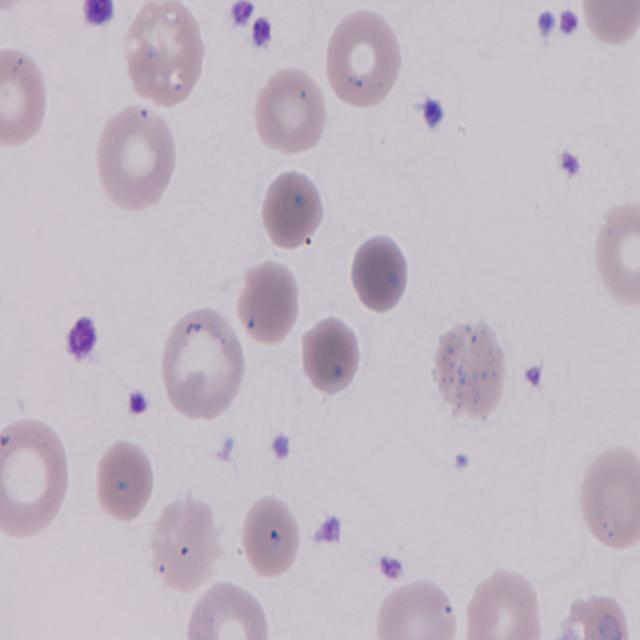Platelets: (420, 92, 448, 134)
RBC: (157, 304, 245, 419), (92, 100, 180, 213), (0, 417, 76, 542), (121, 0, 206, 111), (322, 8, 404, 110), (252, 64, 330, 158), (576, 442, 640, 556), (233, 255, 304, 348), (460, 568, 549, 639), (369, 577, 462, 640), (183, 581, 280, 640), (592, 200, 640, 314), (0, 46, 49, 154), (576, 0, 639, 49)
Spherocyte: (258, 160, 330, 253), (89, 434, 157, 528), (242, 495, 306, 580), (301, 312, 362, 398), (353, 236, 413, 320)
